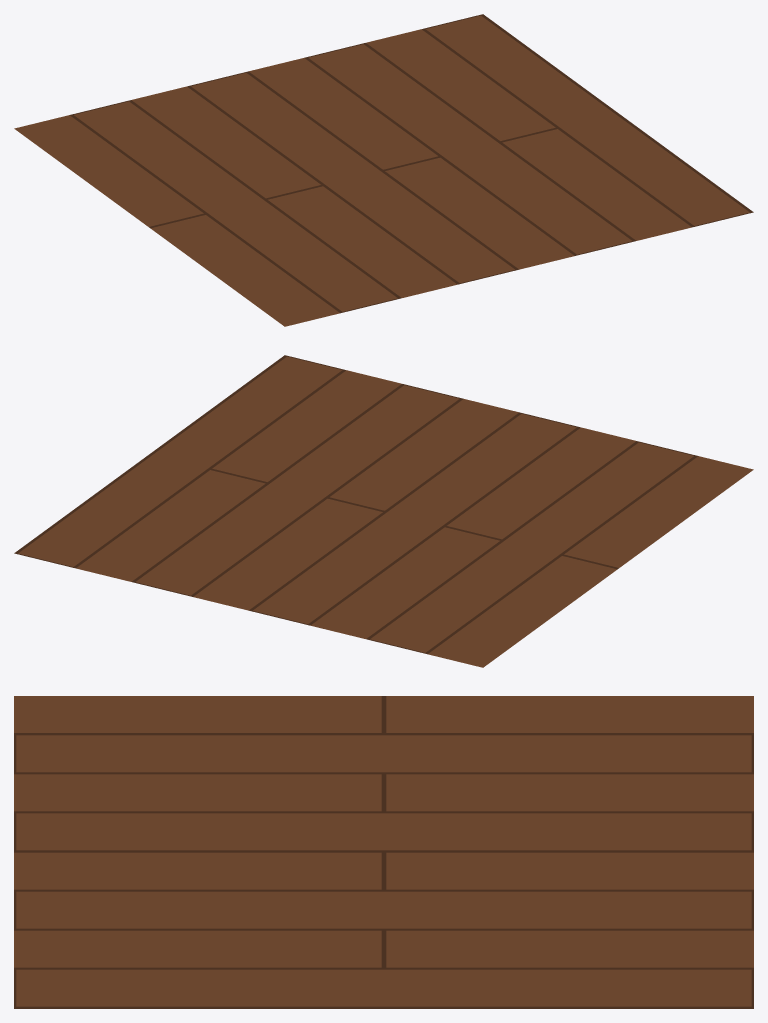
Rendered from Floor_Planks_01.fbx.
The picture shows the model from 3 angles, top to bottom: view 1: azimuth 30°, elevation 25°; view 2: azimuth 150°, elevation 25°; view 3: azimuth 270°, elevation 25°; orthographic projection. The views are drawn at different scales.
Visible parts, largest first — view 1: Cube; view 2: Cube; view 3: Cube.
Boxes of the visible parts, x1,y1,x2,y2 form: Cube: (14,14,753,326); Cube: (14,355,753,667); Cube: (14,696,753,1008).
Size of the model in its own units: 300 by 0 by 300.
